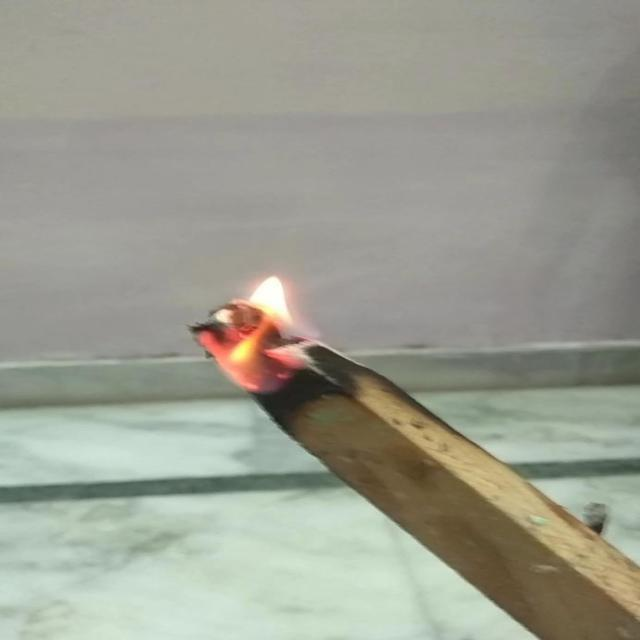smoke: (190, 261, 324, 396)
